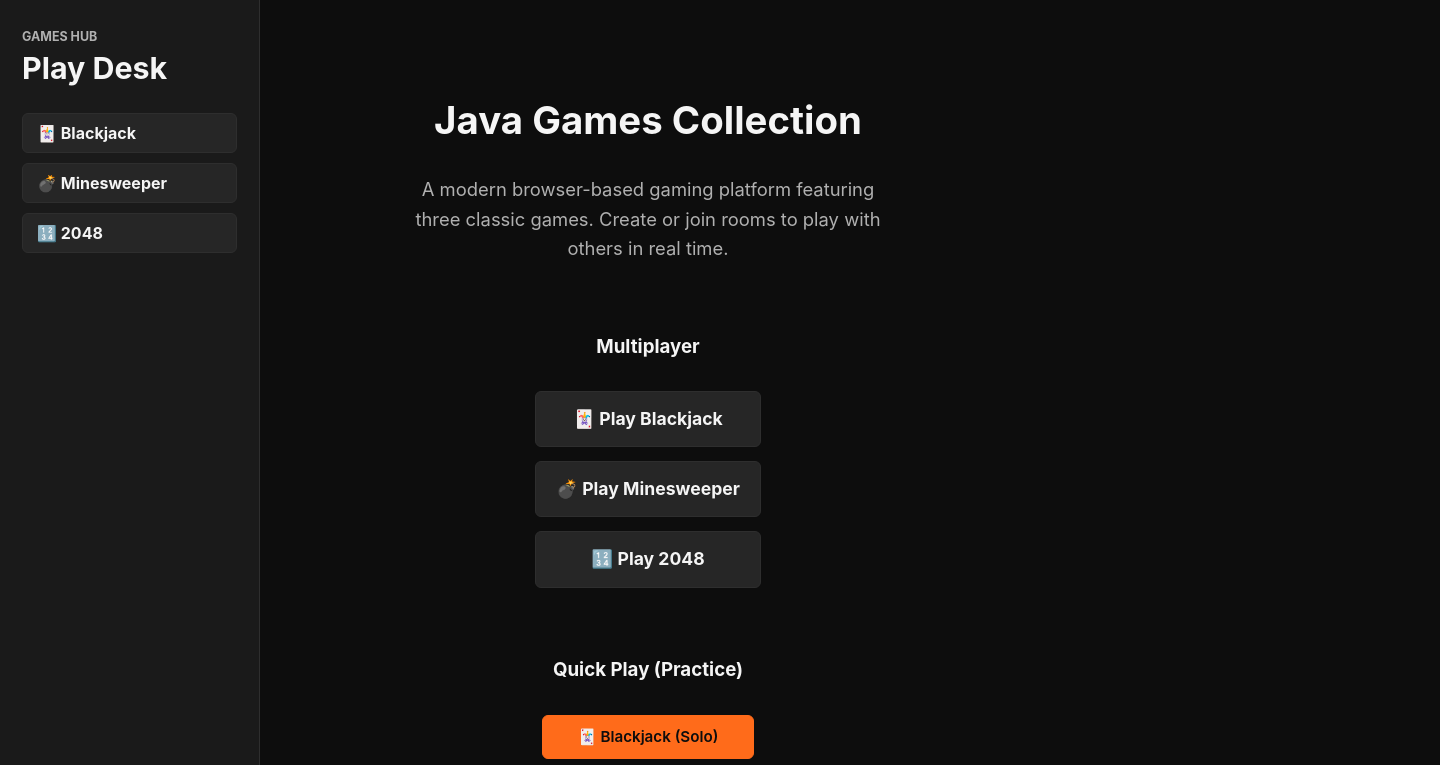
it: F2 - quick play uses the prompted name instead of stale state › sends ownerName "Alice" to createRoom even though playerName state is still empty
Click the button "🃏 Blackjack (Solo)" at (648, 737), box [542,714,754,759]
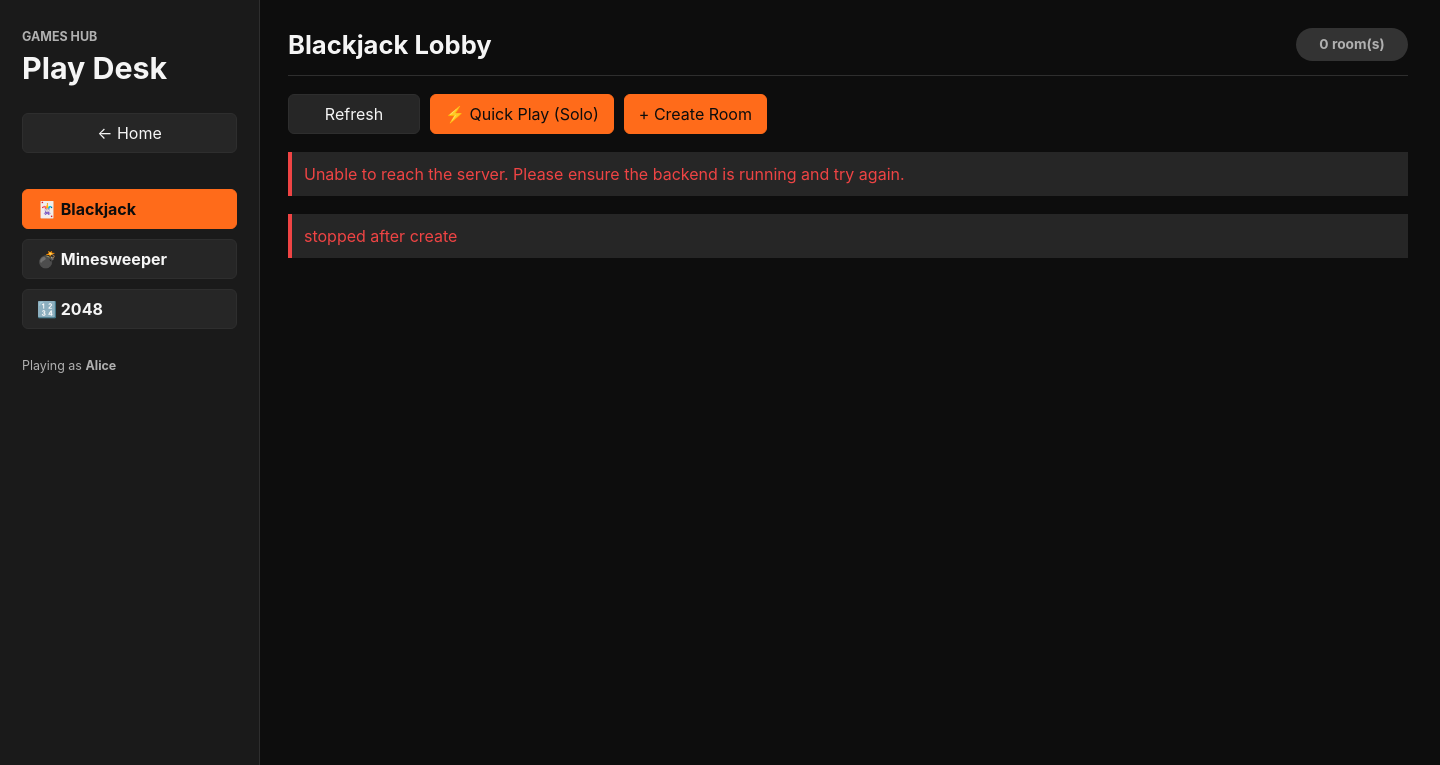
expect the text "Alice" is shown: met, box [86,358,116,373]
expect the text "Playing as" is shown: met, box [22,358,86,373]
